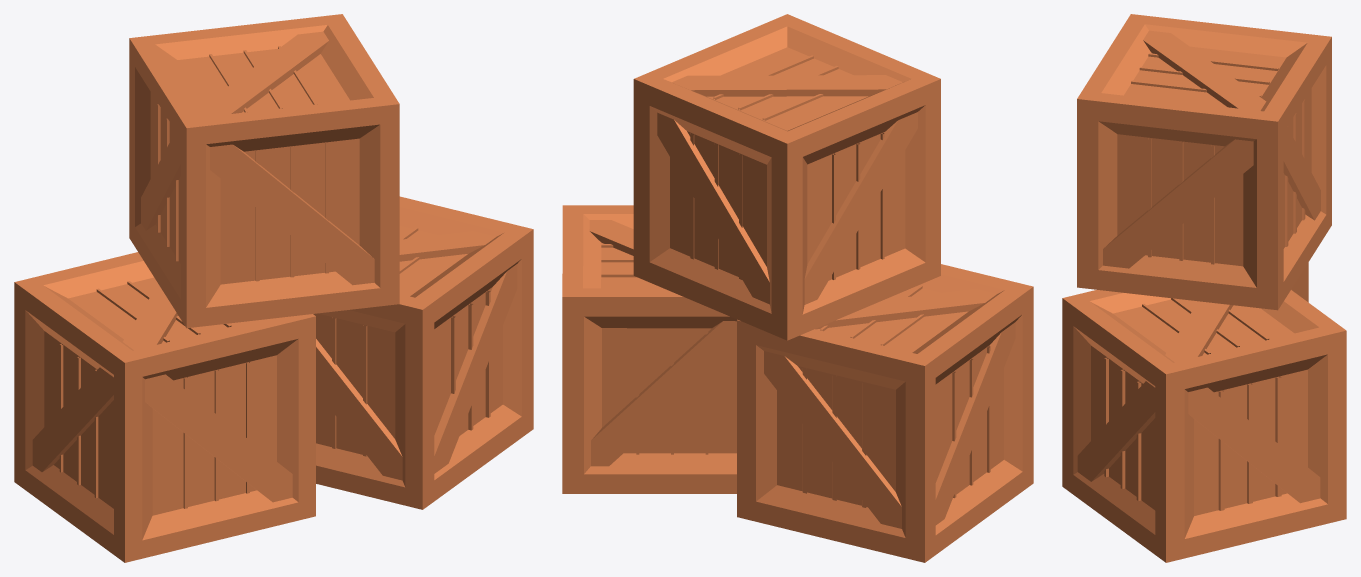
File: box kayu.fbx
3 views of the same model, side by side, from view 1: azimuth 30°, elevation 25°; view 2: azimuth 150°, elevation 25°; view 3: azimuth 270°, elevation 25° (orthographic). The views are drawn at different scales.
Parts seen in each view (by area): view 1: Cube.003, Cube, Cube.002; view 2: Cube.003, Cube, Cube.002; view 3: Cube.002, Cube.003, Cube.
Boxes of the visible parts, x1,y1,x2,y2 form: Cube.003: [129, 14, 399, 328]; Cube: [14, 252, 315, 562]; Cube.002: [313, 196, 533, 509]; Cube.003: [633, 14, 940, 340]; Cube: [737, 264, 1033, 562]; Cube.002: [562, 205, 736, 493]; Cube.002: [1062, 290, 1346, 562]; Cube.003: [1077, 14, 1331, 310]; Cube: [1291, 262, 1308, 302].
Bounding box in the file's own units: 142 × 124 × 83.67.
